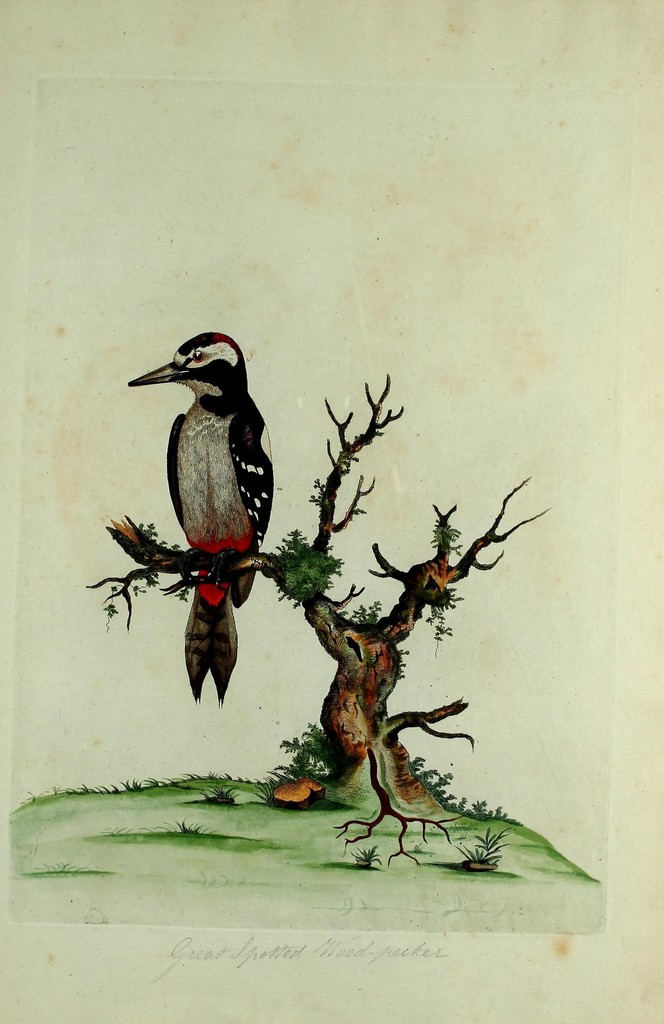Tree: (88, 371, 557, 789)
